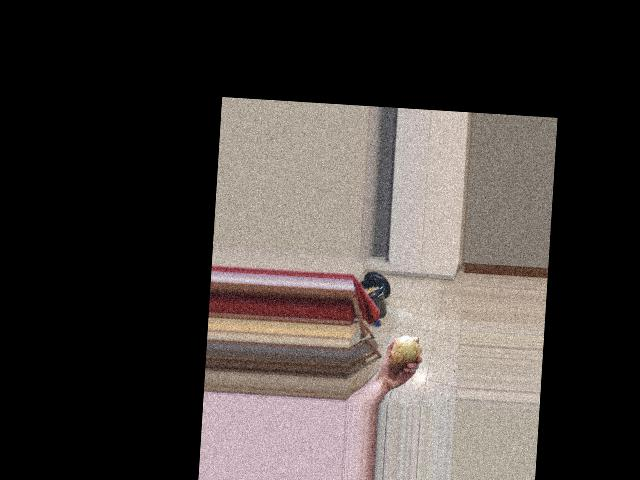onion: (387, 333, 420, 367)
